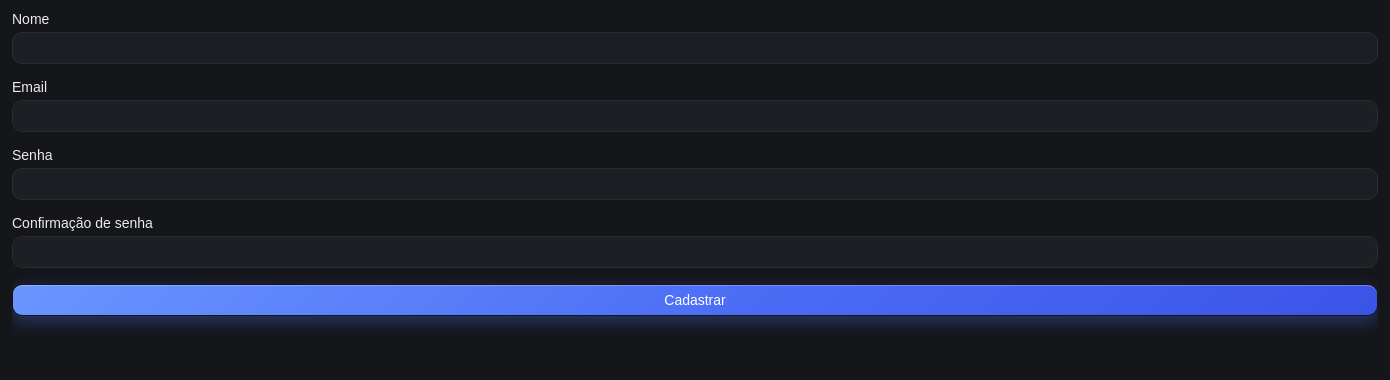
Test: CadastroForm › exibe mensagem de fallback em caso de erro genérico ou de rede
The width and height of the screenshot is (1390, 380).
In the field labelled "Nome": x=695, y=48 [12, 32, 1378, 64], type "Lucas"
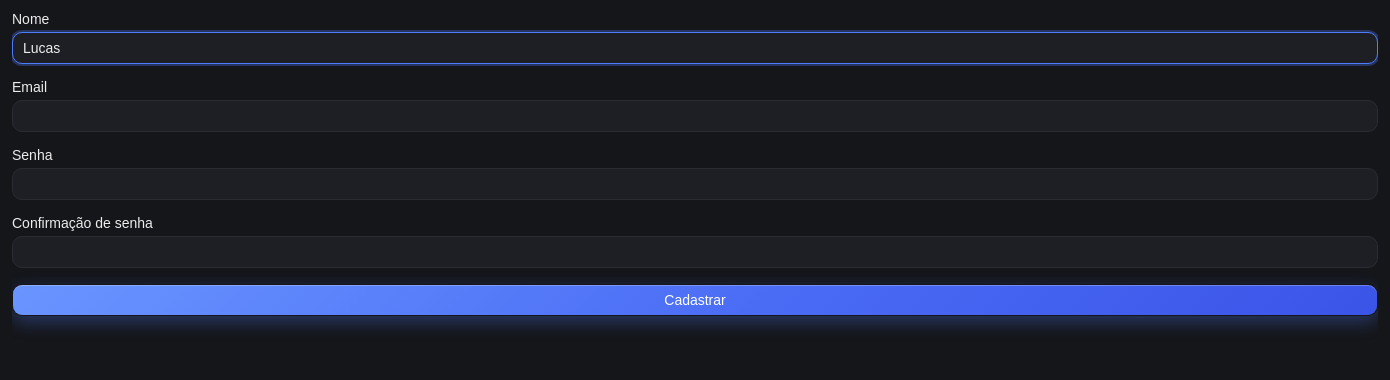
In the field labelled "Email": x=695, y=116 [12, 100, 1378, 132], type "lucas@example.com"
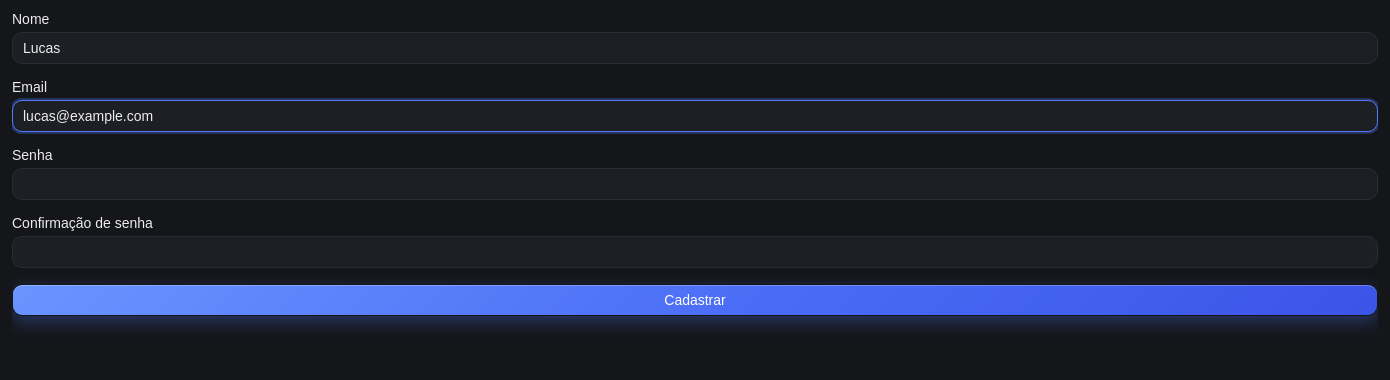
In the password field labelled "Senha": x=695, y=184 [12, 168, 1378, 200], type "SenhaForte@123"
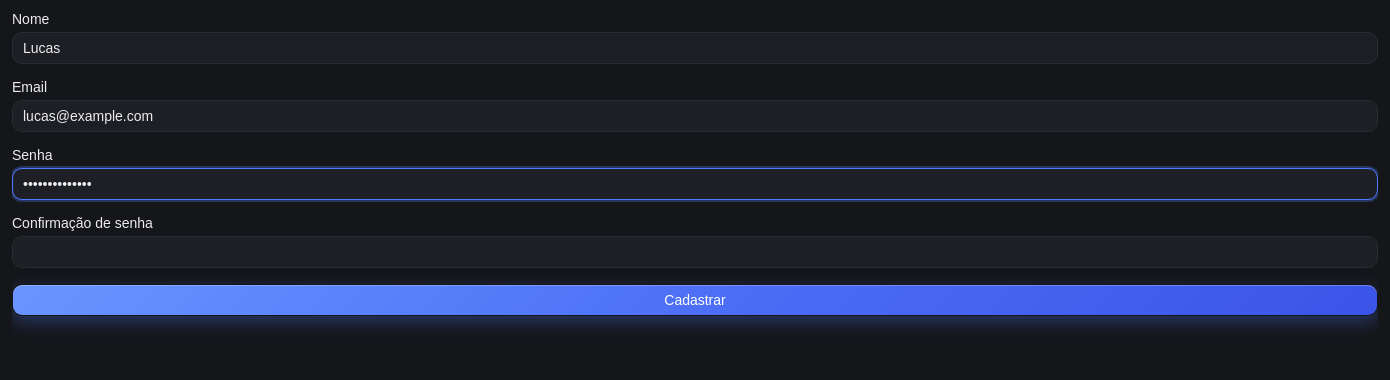
In the password field labelled "Confirmação de senha": x=695, y=252 [12, 236, 1378, 268], type "SenhaForte@123"
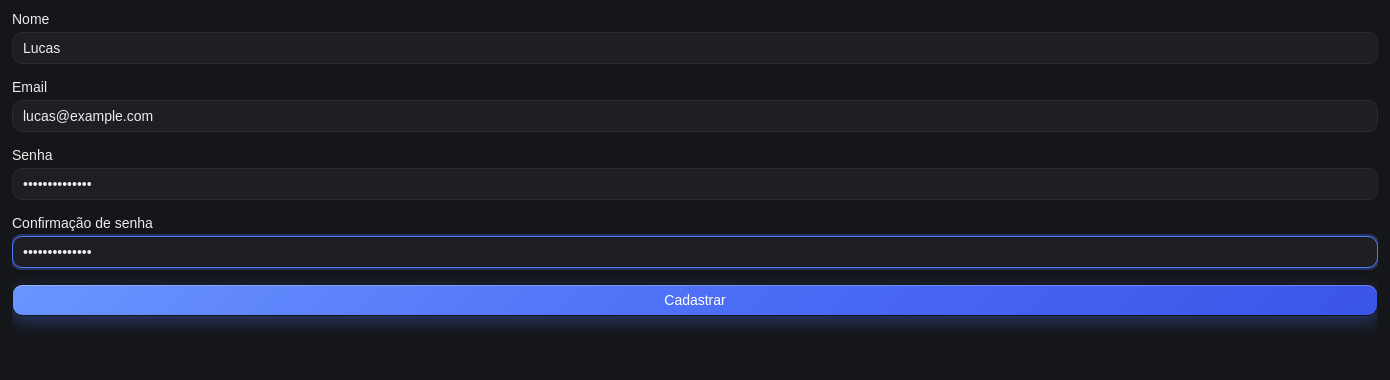
Click the button "Cadastrar": x=695, y=300 [12, 284, 1378, 316]
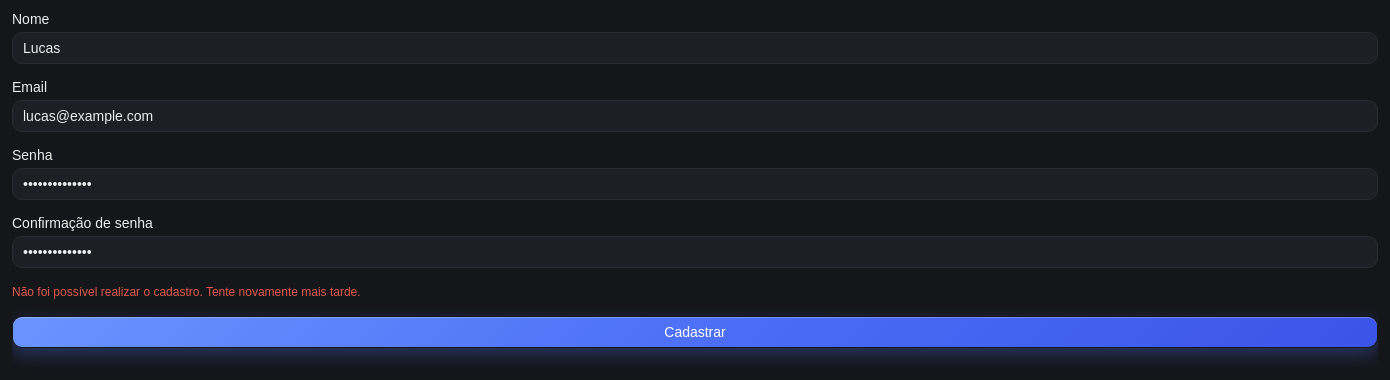
Now the text "Não foi possível realizar o cadastro. Tente novamente mais tarde." is shown, box [12, 285, 361, 299]
